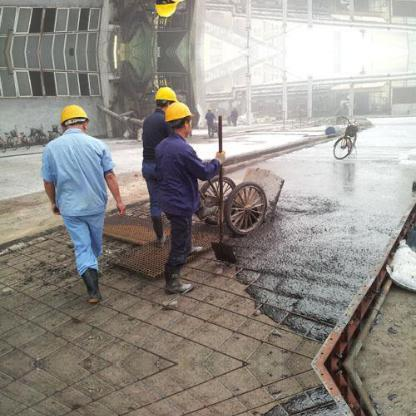helmet: (163, 100, 196, 126), (147, 82, 179, 107), (58, 103, 89, 126)
